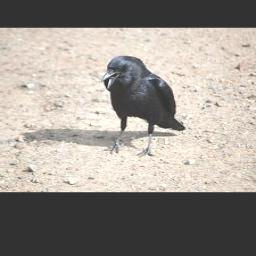Crow: (100, 55, 184, 156)
